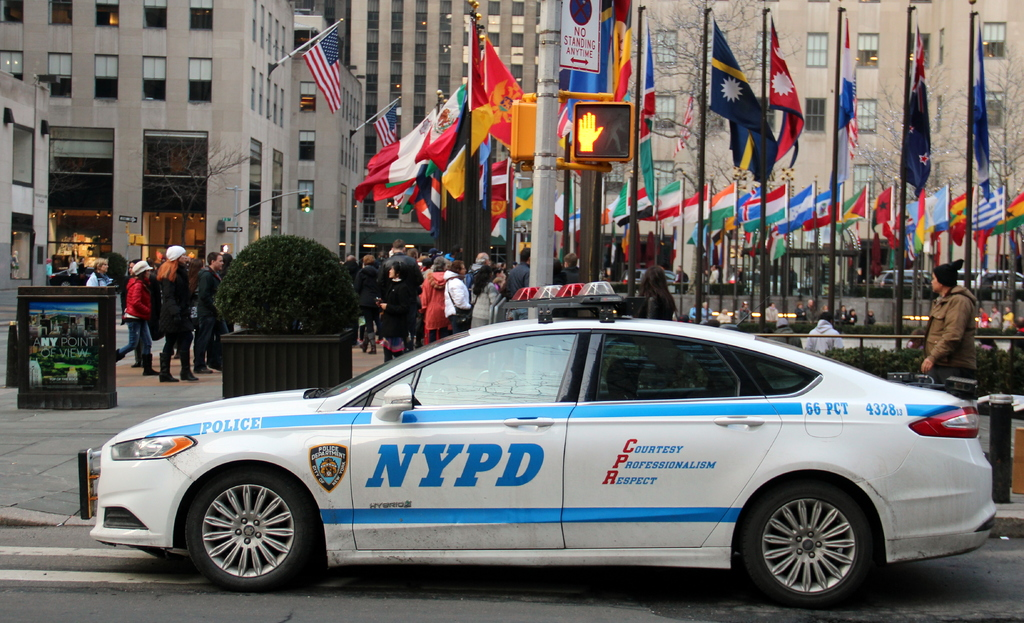Car: (76, 279, 995, 607)
